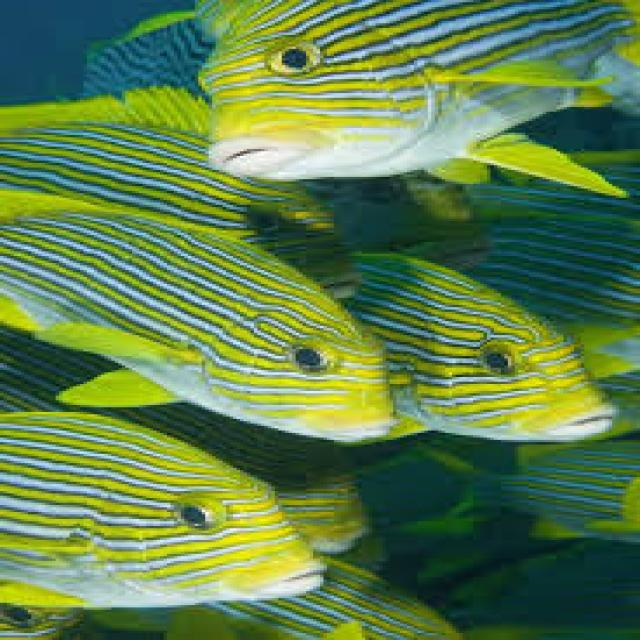RibbonedSweetlips: (0, 190, 397, 445), (198, 0, 640, 198), (0, 86, 362, 300), (0, 409, 329, 608), (334, 250, 620, 443)
